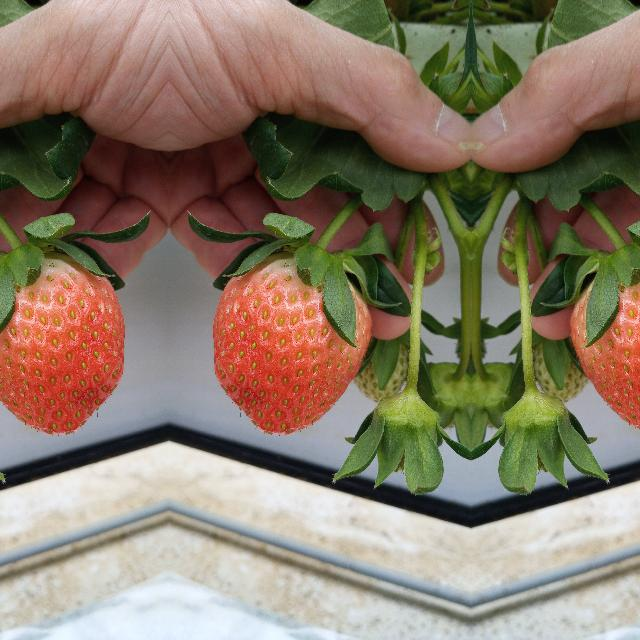Health_100: (210, 252, 372, 436), (0, 251, 125, 436), (569, 251, 640, 436)
